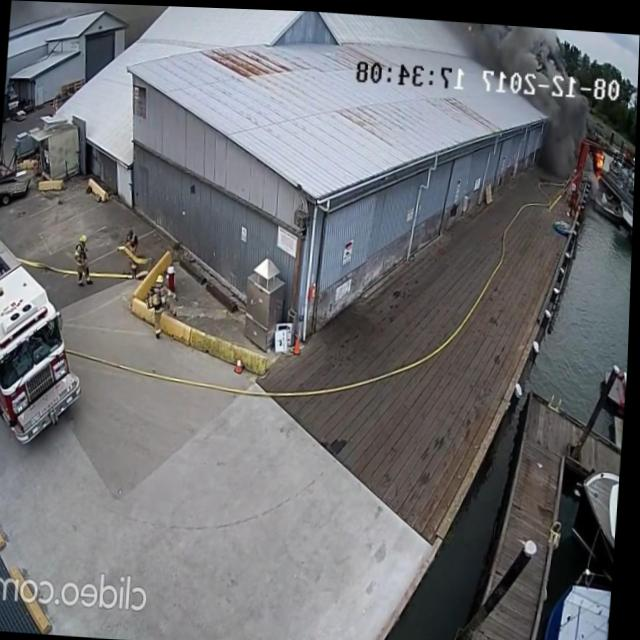fire: (592, 146, 607, 177)
